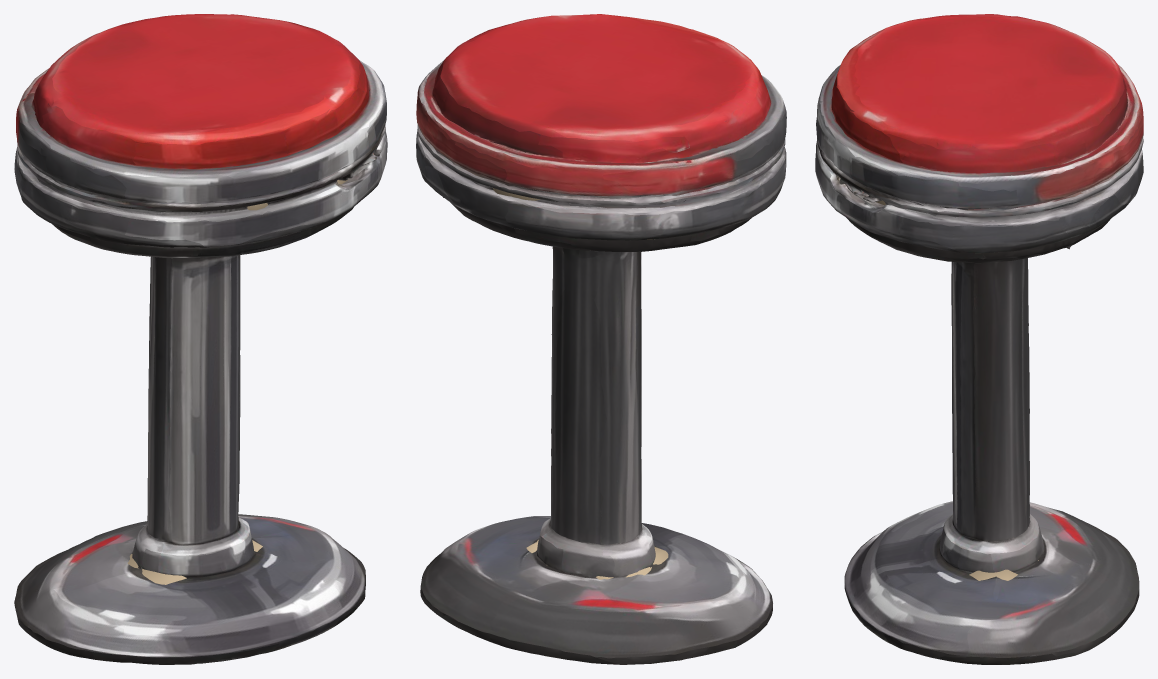
Rendered from stool_chunks.glb.
The picture shows the model from 3 angles, left to right: view 1: azimuth 30°, elevation 25°; view 2: azimuth 150°, elevation 25°; view 3: azimuth 270°, elevation 25°; orthographic projection. The views are drawn at different scales.
Parts seen in each view (by area): view 1: chunk5_shell, chunk2_shell, chunk1_shell, chunk3_shell, chunk0_shell, chunk4_shell; view 2: chunk5_shell, chunk1_shell, chunk2_shell, chunk3_shell, chunk0_shell; view 3: chunk3_shell, chunk5_shell, chunk2_shell, chunk1_shell, chunk0_shell, chunk4_shell.
Part boxes in pixels (x1=…): chunk5_shell: x1=14, y1=255, x2=295, y2=664; chunk2_shell: x1=41, y1=16, x2=294, y2=258; chunk1_shell: x1=14, y1=14, x2=251, y2=248; chunk3_shell: x1=238, y1=30, x2=387, y2=644; chunk0_shell: x1=253, y1=16, x2=357, y2=210; chunk4_shell: x1=197, y1=41, x2=379, y2=660; chunk5_shell: x1=421, y1=76, x2=772, y2=664; chunk1_shell: x1=428, y1=84, x2=782, y2=251; chunk2_shell: x1=458, y1=21, x2=786, y2=184; chunk3_shell: x1=416, y1=29, x2=550, y2=641; chunk0_shell: x1=426, y1=14, x2=660, y2=123; chunk3_shell: x1=847, y1=141, x2=1136, y2=664; chunk5_shell: x1=846, y1=150, x2=1139, y2=605; chunk2_shell: x1=815, y1=14, x2=1070, y2=161; chunk1_shell: x1=1001, y1=15, x2=1143, y2=192; chunk0_shell: x1=816, y1=85, x2=1100, y2=164; chunk4_shell: x1=815, y1=135, x2=987, y2=592.
Size of the model in its own units: 0.526 by 0.8 by 0.46.
Materials: 1 (1 with a texture image).
